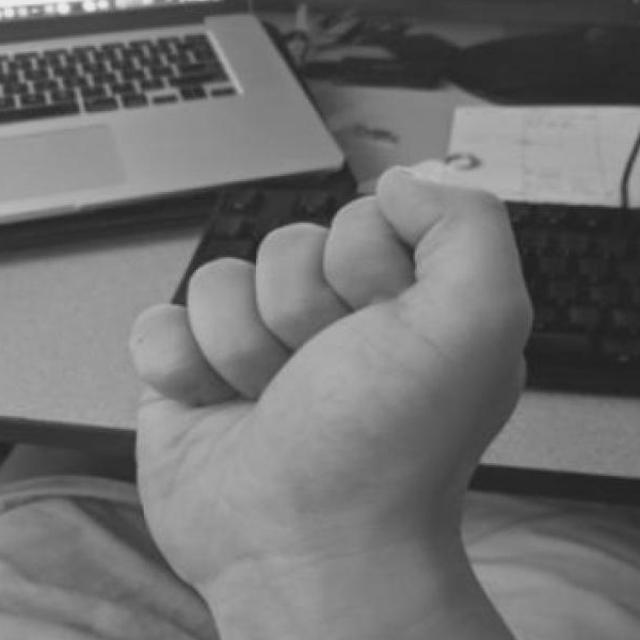A: (103, 159, 546, 602)
